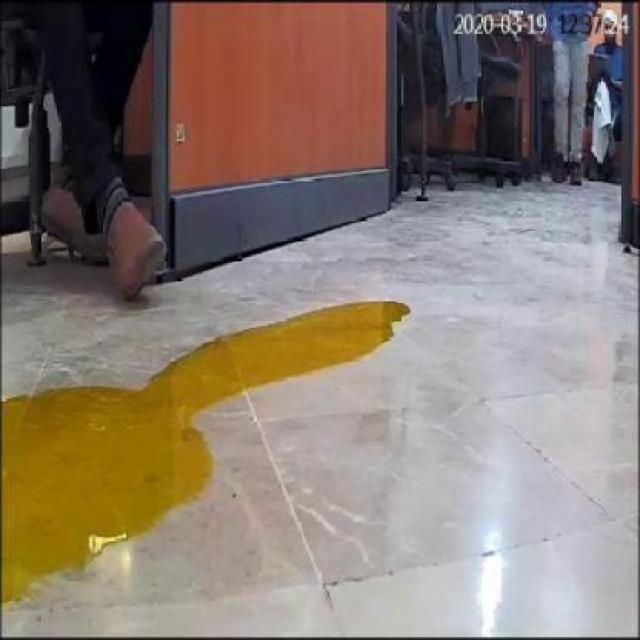spillage: (1, 301, 408, 603)
